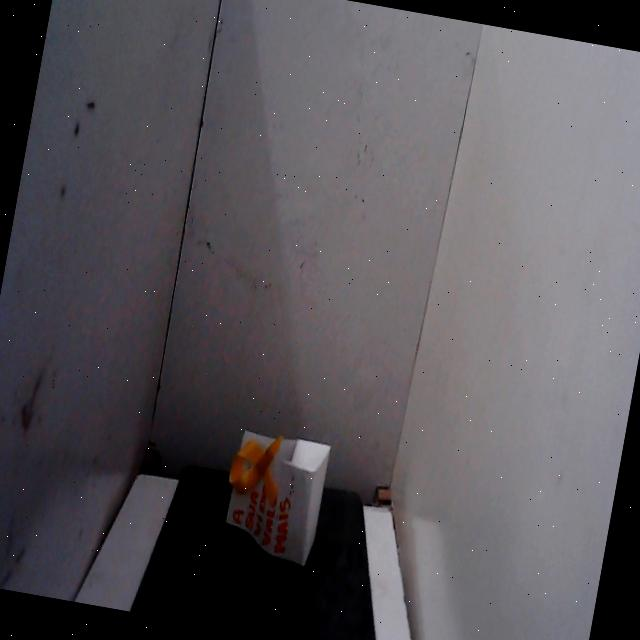papel: (205, 410, 344, 580)
